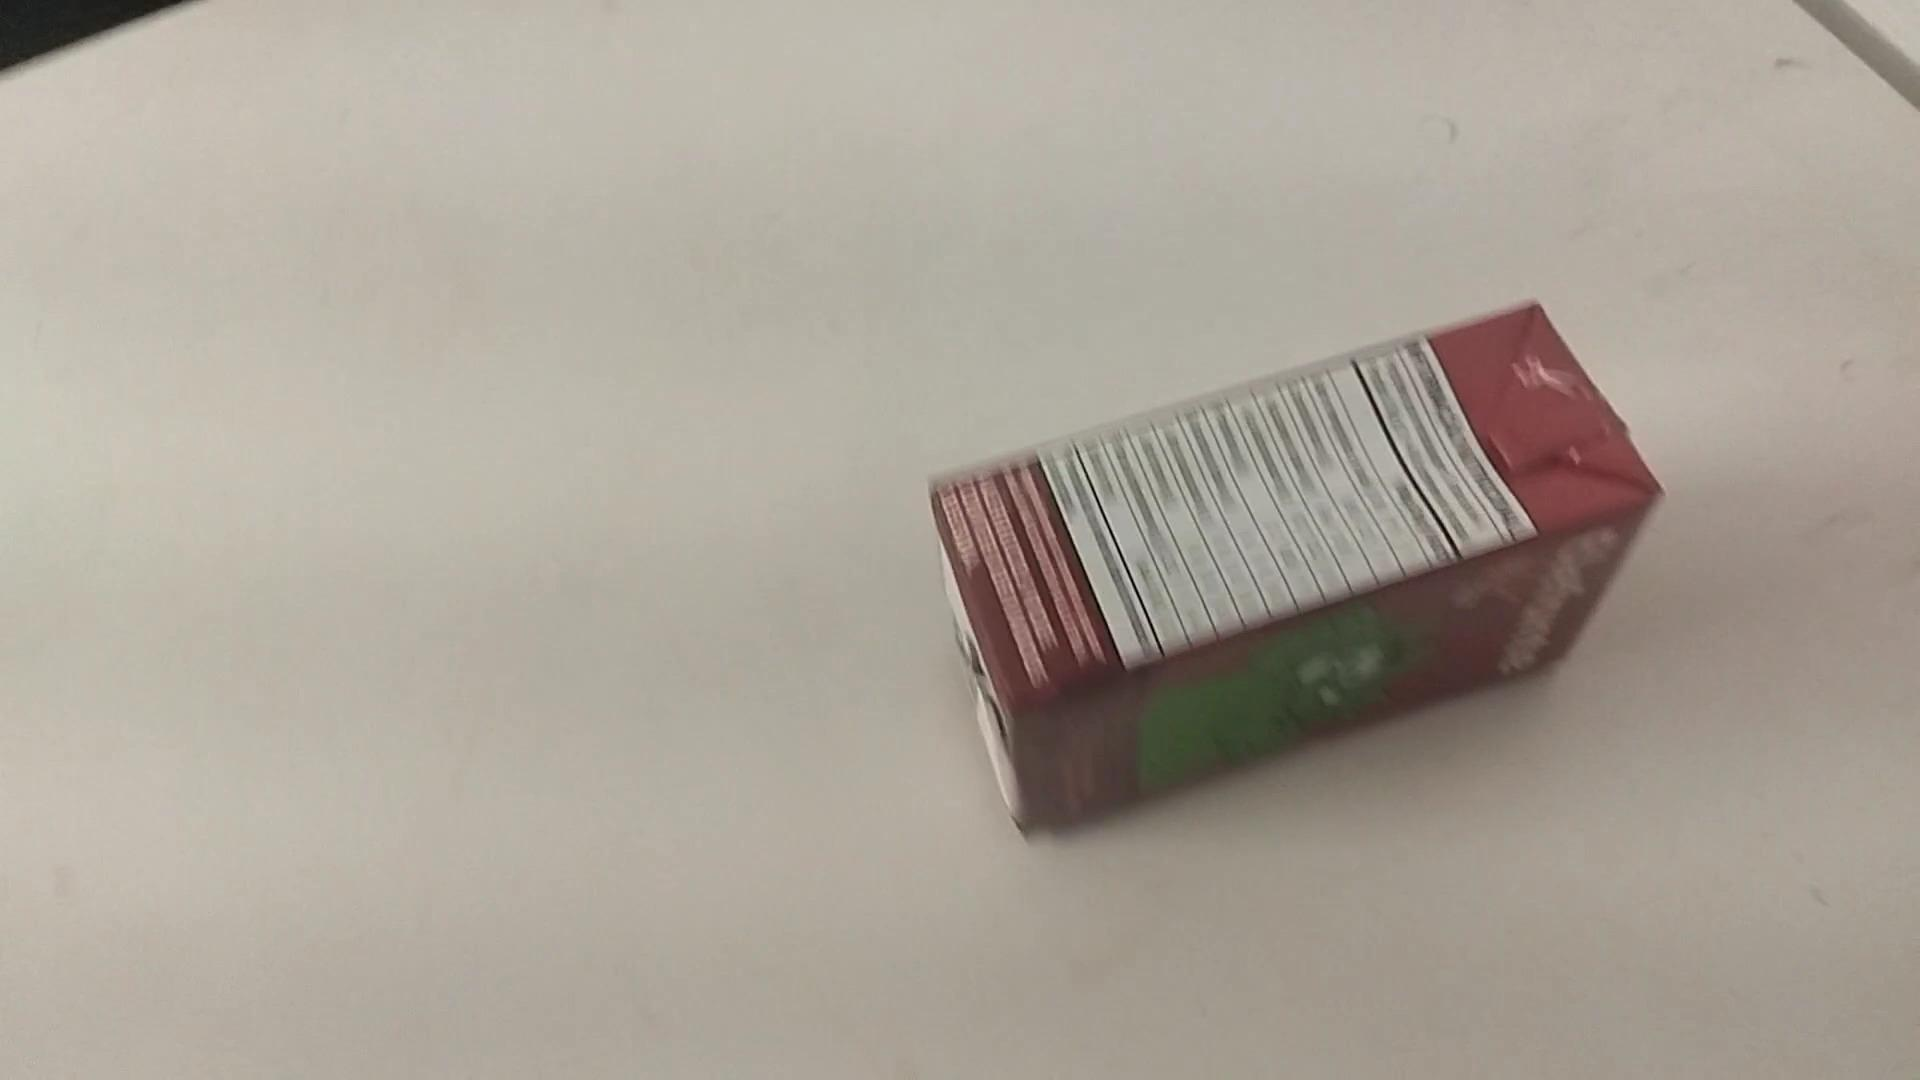tomate: (932, 301, 1659, 836)
